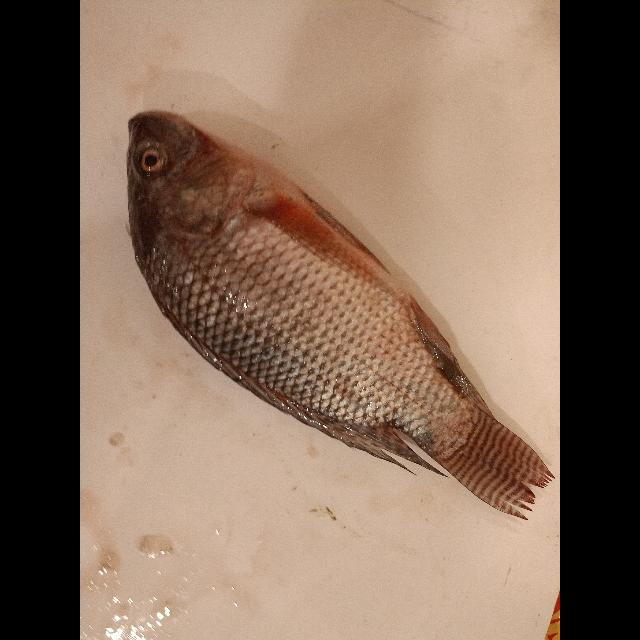Tilapia: (126, 110, 554, 520)
